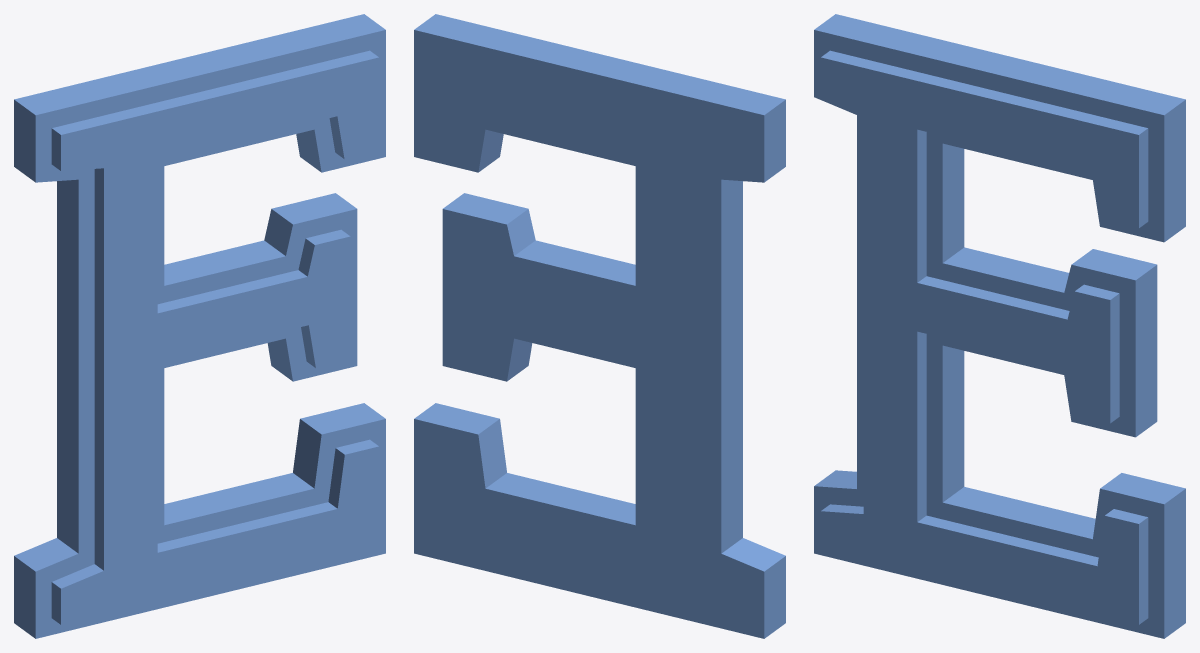
File: uploads_files_2164652_E1.FBX
3 views of the same model, side by side, from view 1: azimuth 30°, elevation 25°; view 2: azimuth 150°, elevation 25°; view 3: azimuth 330°, elevation 25° (orthographic).
Parts seen in each view (by area): view 1: E; view 2: E; view 3: E.
Boxes of the visible parts, x1,y1,x2,y2 form: E: [14, 14, 385, 638]; E: [414, 14, 785, 638]; E: [814, 14, 1185, 638].
Size of the model in its own units: 3.27 by 4.67 by 0.5.
